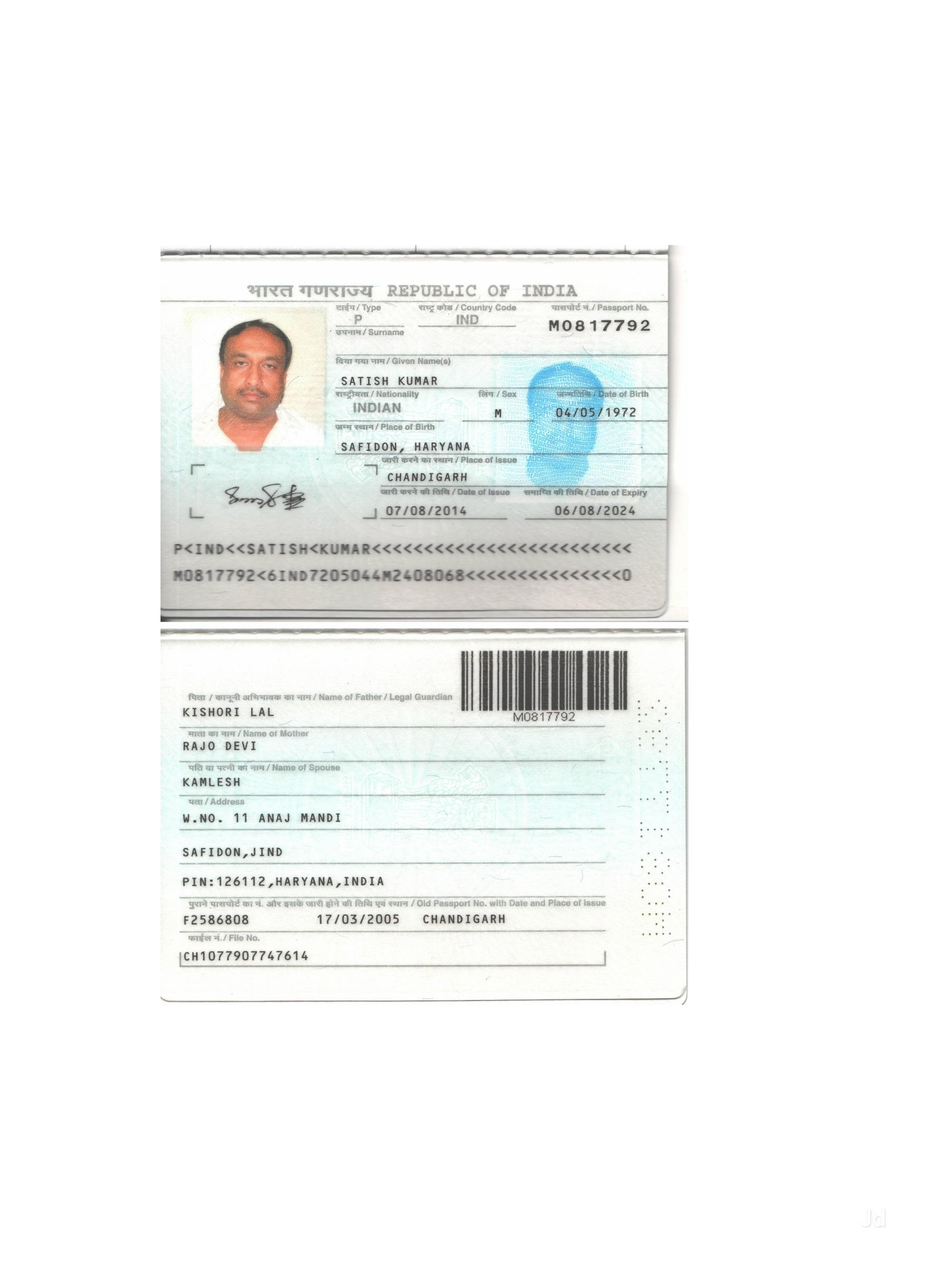DOB: (550, 404, 645, 423)
country_code: (452, 310, 486, 330)
date_of_expiry: (549, 500, 643, 524)
date_of_issue: (383, 498, 474, 525)
details: (165, 535, 643, 593)
name: (332, 370, 447, 391)
nationality: (348, 398, 405, 420)
passport_no: (544, 314, 656, 341)
photo: (189, 307, 324, 444)
place_of_birth: (335, 435, 480, 453)
place_of_issue: (383, 468, 476, 490)
sex: (486, 402, 513, 425)
sign: (213, 477, 330, 523)
type: (347, 310, 372, 330)
